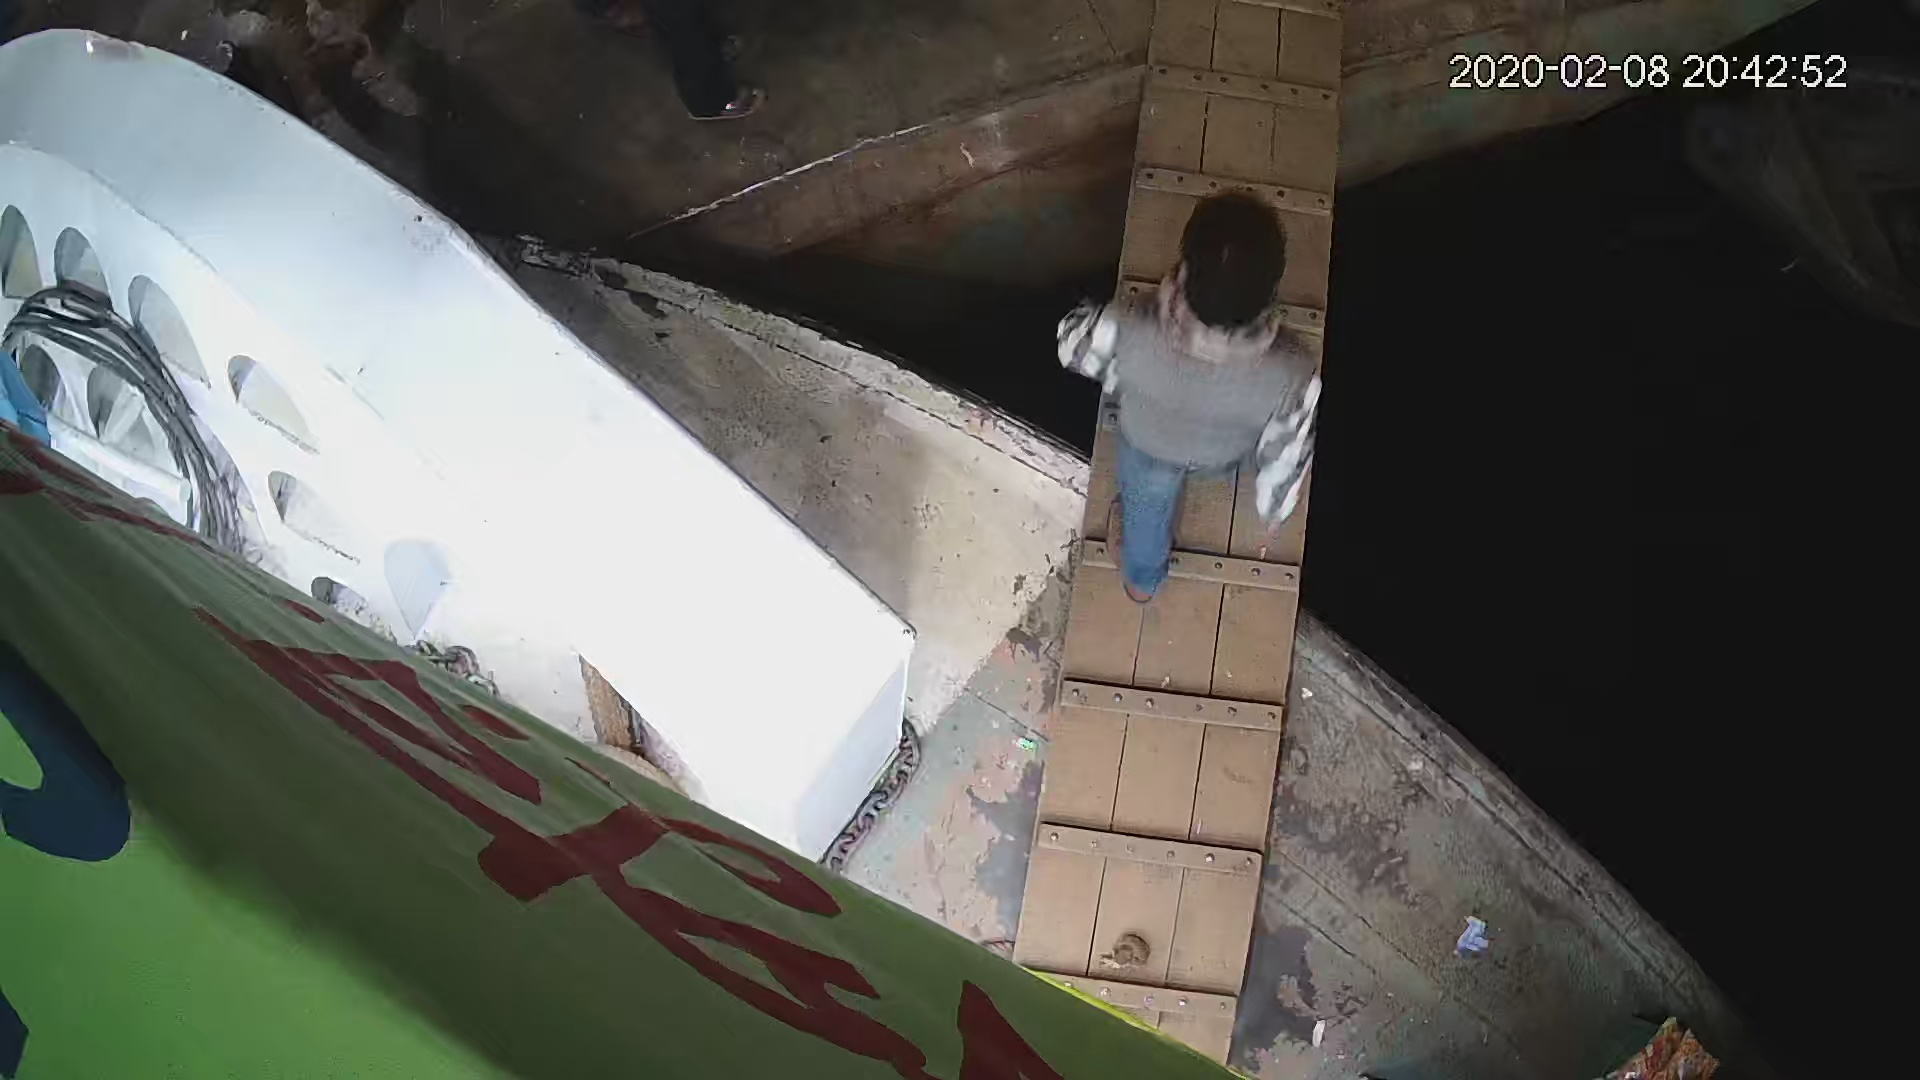person: (1036, 188, 1327, 597)
